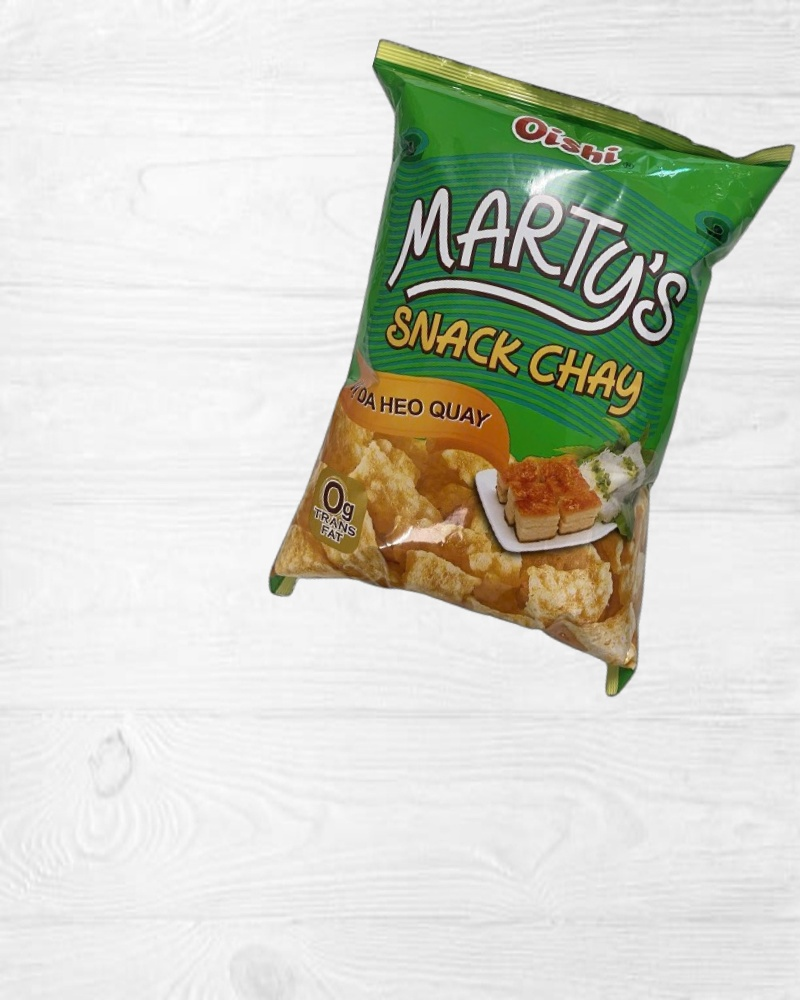Snack chay: (231, 35, 796, 707)
